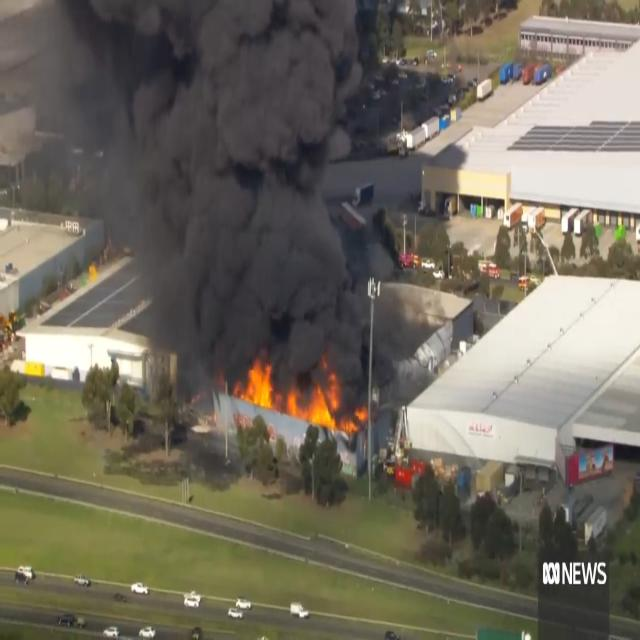fire: (290, 375, 370, 432), (240, 356, 276, 409)
